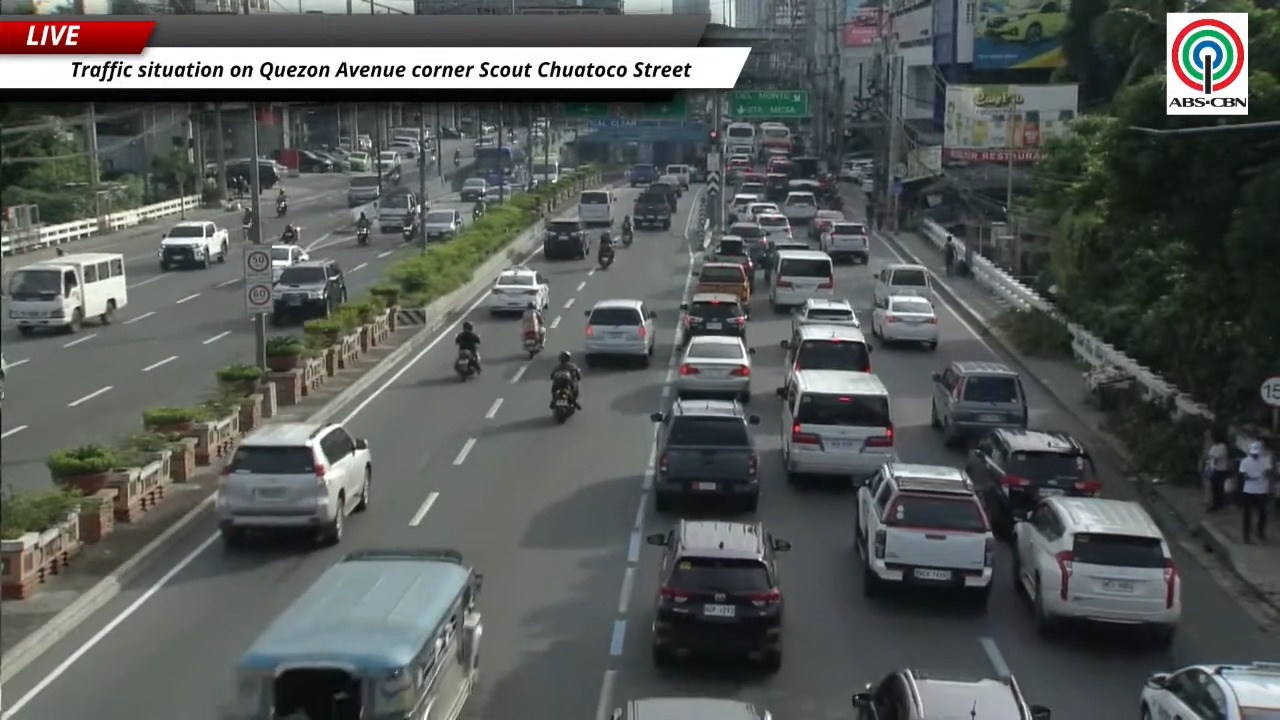bus: (8, 253, 127, 335), (474, 145, 525, 174), (724, 122, 757, 155), (759, 123, 791, 152), (531, 156, 560, 184)
car: (1012, 498, 1181, 647), (646, 520, 789, 671), (854, 462, 995, 607), (215, 422, 371, 547), (965, 429, 1101, 537), (776, 370, 896, 482), (650, 398, 759, 511), (852, 669, 1051, 719), (931, 361, 1028, 445), (1139, 661, 1279, 719), (674, 335, 753, 403), (270, 259, 347, 324), (584, 300, 656, 366), (779, 324, 871, 373), (982, 0, 1068, 45), (872, 295, 939, 349), (610, 697, 771, 719), (681, 293, 746, 342), (485, 266, 548, 314), (692, 262, 751, 313), (707, 235, 755, 291), (791, 298, 859, 336), (873, 263, 934, 301), (819, 220, 869, 263), (377, 188, 423, 232), (543, 217, 589, 259), (727, 220, 769, 264), (270, 244, 309, 282), (423, 209, 464, 241), (644, 176, 679, 212), (782, 192, 817, 225), (347, 174, 382, 207), (809, 210, 844, 241), (756, 212, 792, 241), (459, 178, 499, 204), (309, 149, 349, 171), (297, 150, 333, 172), (730, 194, 758, 222), (765, 171, 789, 202), (745, 201, 780, 221), (737, 176, 766, 200), (739, 171, 765, 197), (789, 176, 821, 197), (656, 174, 684, 198), (628, 164, 657, 187), (726, 156, 751, 181), (664, 164, 690, 188), (390, 140, 420, 159), (347, 151, 371, 171), (440, 126, 464, 139)
motorcycle: (552, 388, 575, 422), (454, 351, 475, 381), (523, 332, 545, 359), (598, 251, 614, 270), (402, 225, 416, 243), (356, 227, 369, 245), (622, 229, 633, 247), (282, 231, 297, 244), (277, 200, 287, 216), (473, 207, 484, 221), (453, 155, 460, 166)
truck: (158, 221, 228, 270), (632, 190, 672, 230)
